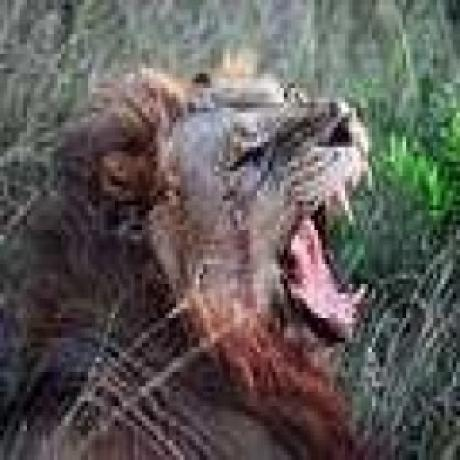Lion: (0, 57, 376, 460)
